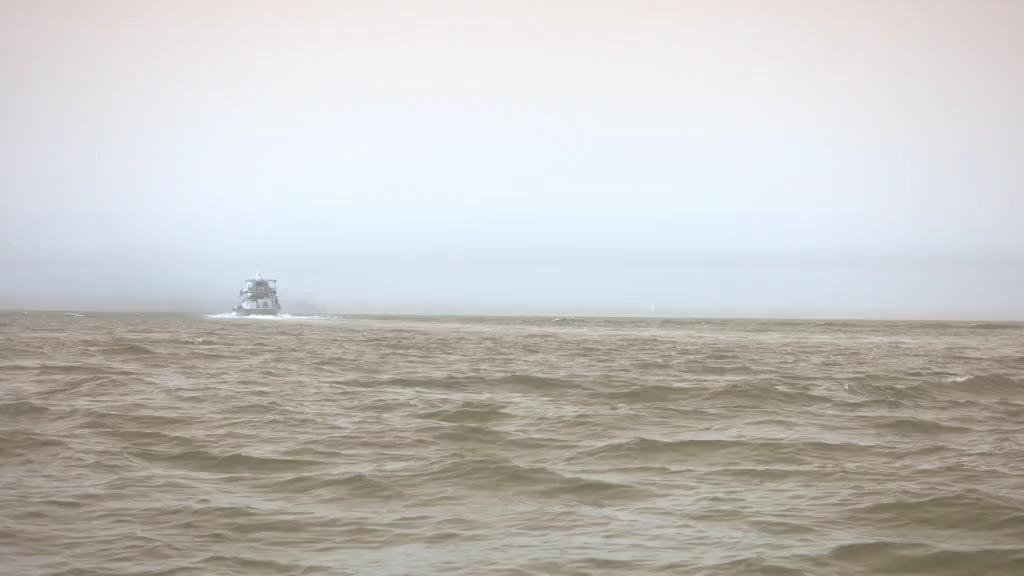PassengerShip: (232, 264, 288, 316)
